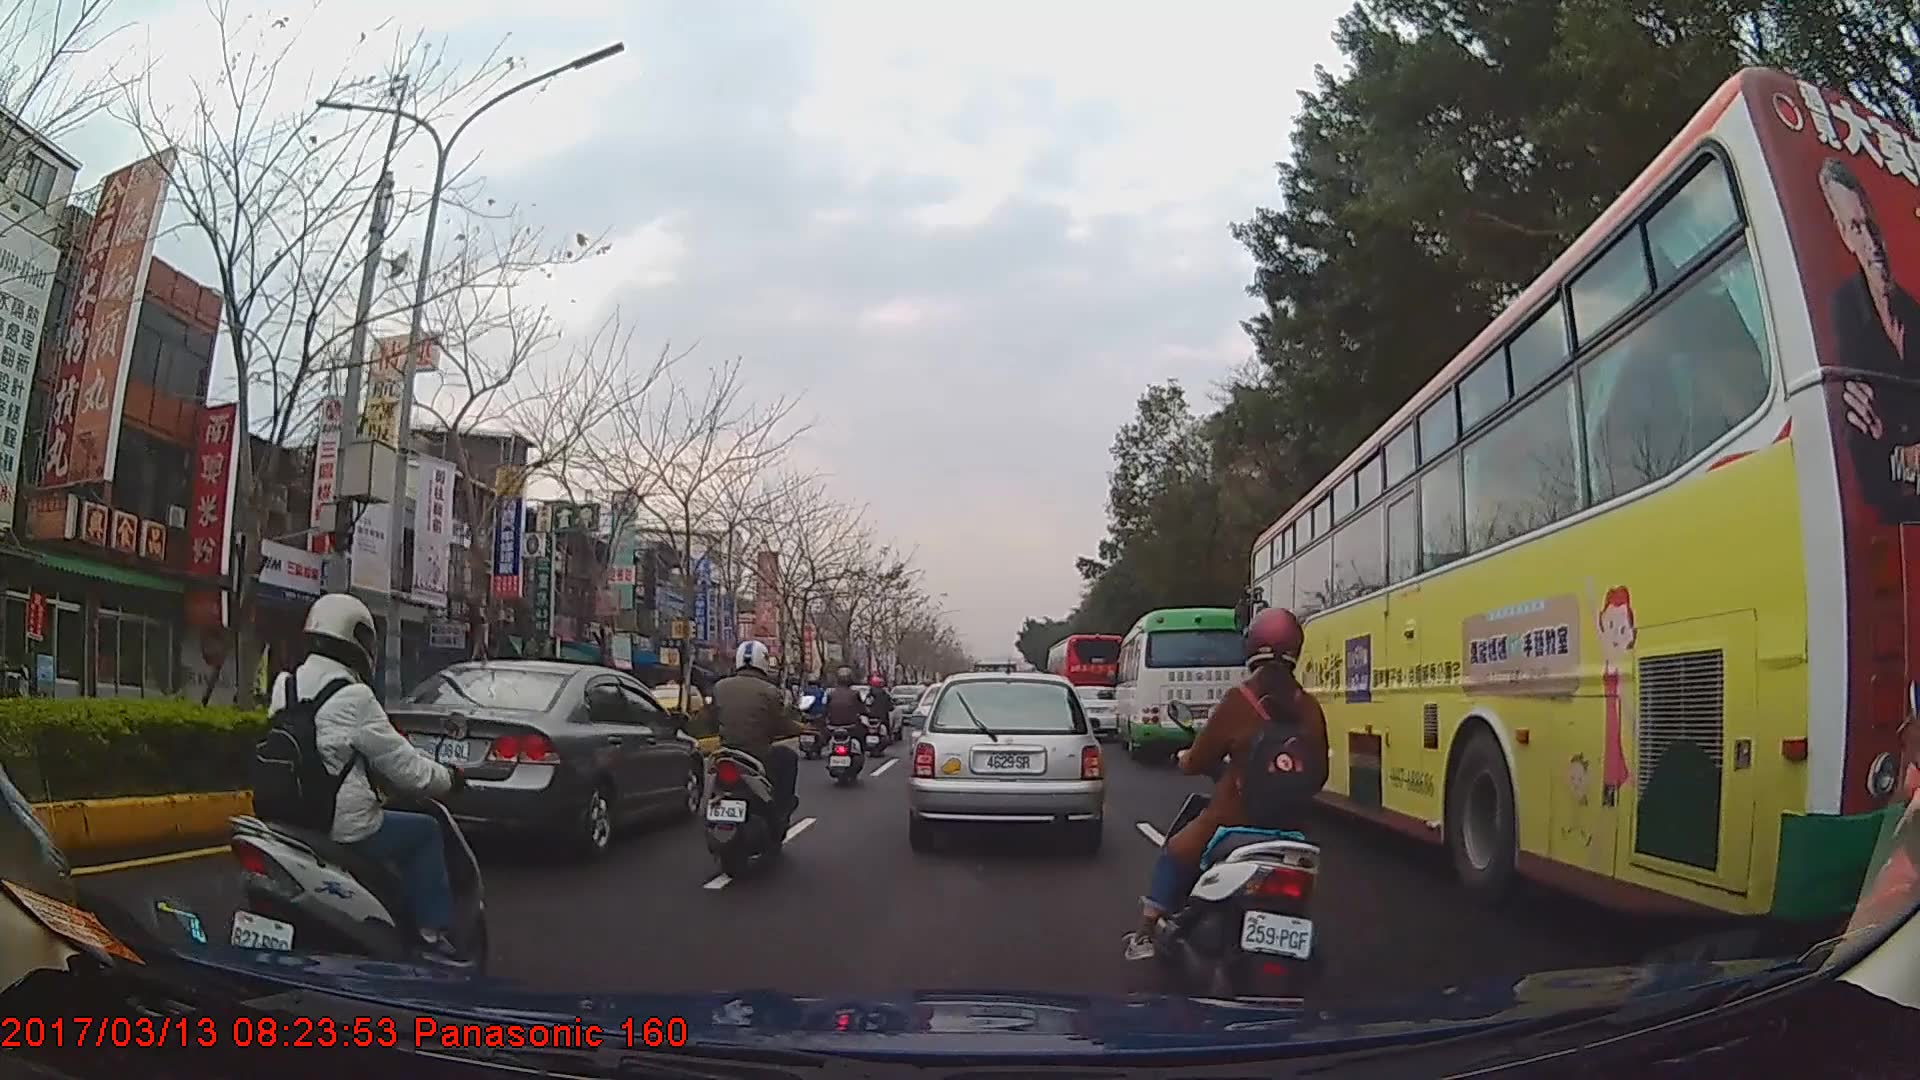rider: (220, 593, 487, 989), (1133, 610, 1340, 995), (702, 638, 814, 883), (824, 669, 865, 787), (863, 678, 896, 760), (798, 674, 833, 748)
vehicle: (1249, 64, 1917, 930), (358, 658, 707, 861), (911, 668, 1102, 847), (1114, 606, 1260, 761), (1046, 633, 1131, 734), (632, 677, 707, 726)
